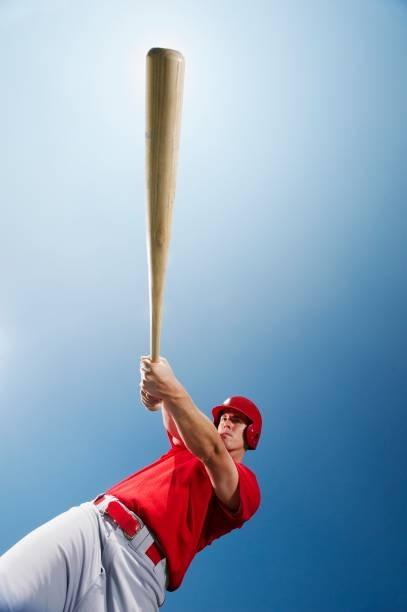bita: (147, 51, 186, 386)
